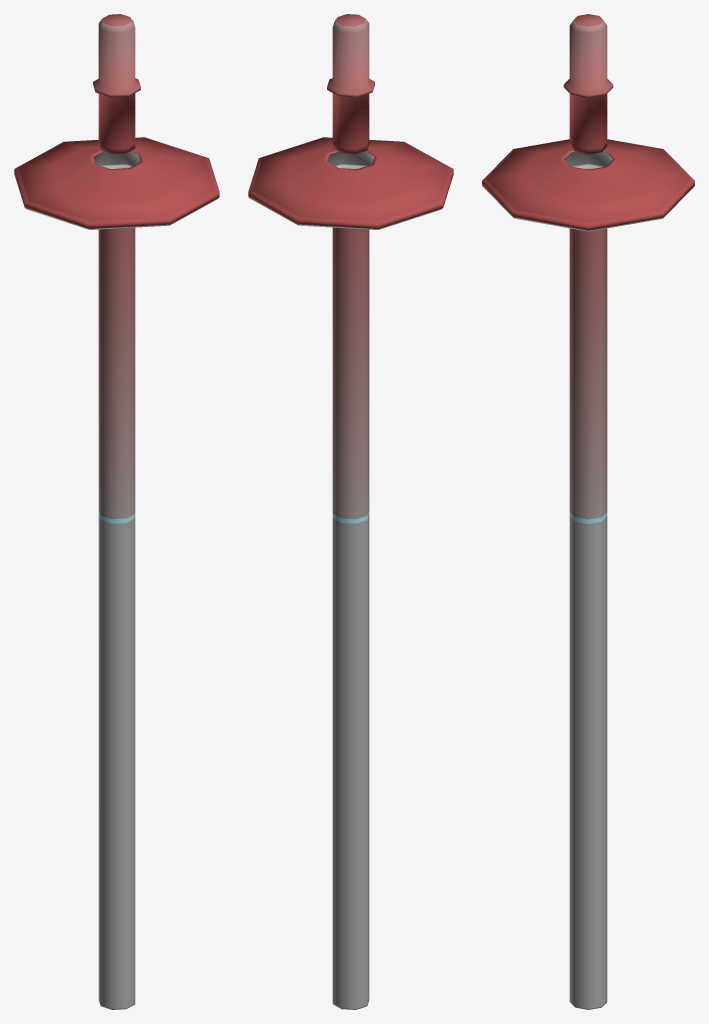
The model's file is Light.Post.fbx.
3 views of the same model, side by side, from view 1: azimuth 30°, elevation 25°; view 2: azimuth 150°, elevation 25°; view 3: azimuth 270°, elevation 25° (orthographic).
Parts seen in each view (by area): view 1: Cylinder; view 2: Cylinder; view 3: Cylinder.
Part boxes in pixels (<box>): Cylinder: <box>14,14,219,1009</box>; Cylinder: <box>248,14,453,1009</box>; Cylinder: <box>482,14,694,1009</box>.
Size of the model in its own units: 1124 by 5719 by 1124.
